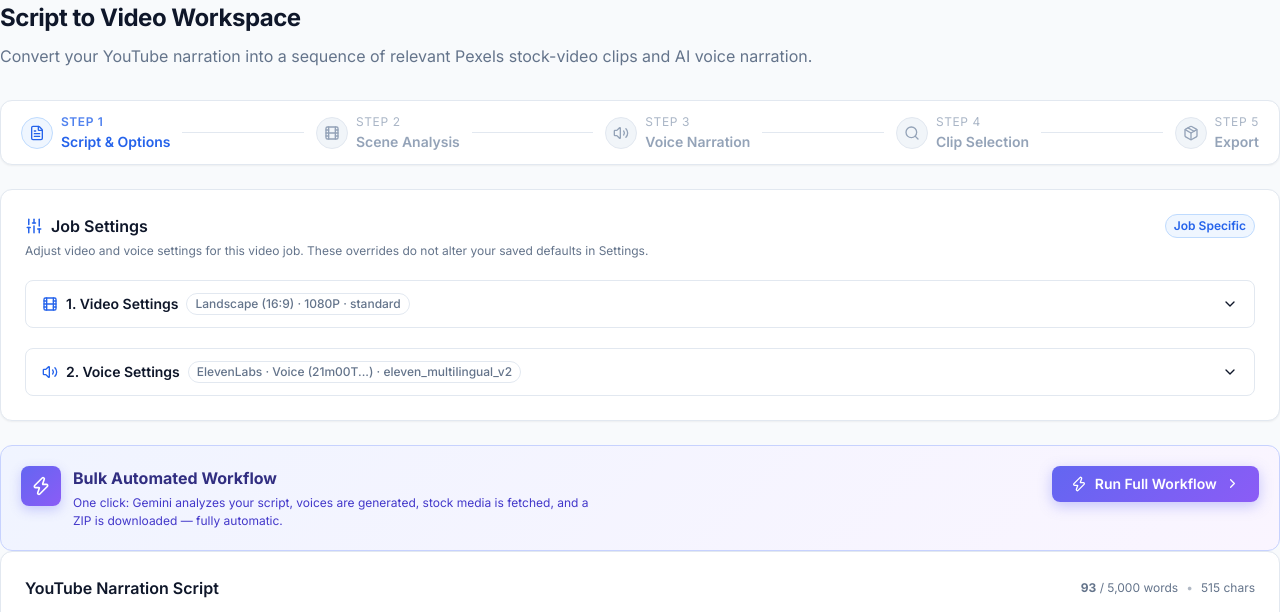
Scenario: WorkspacePage › renders step 1 with prefilled defaults from settings and sample script
Expected: the heading "Script to Video Workspace" is shown, [0,3,301,32]
Expected: the text "YouTube Narration Script" is shown, [25,576,219,600]
// Open Video Settings
Click the button "1. Video Settings Landscape (16:9) · 1080P · standard" at (122,304), box [26,281,1254,327]
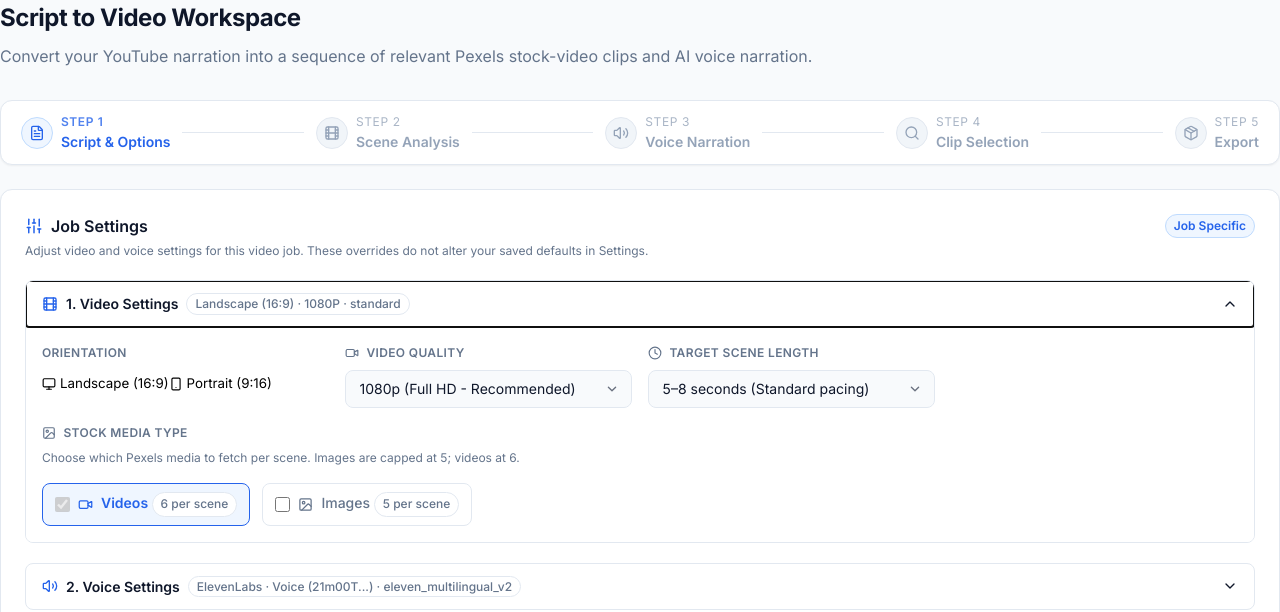
Now the button "1. Video Settings Landscape (16:9) · 1080P · standard" is expanded, box [26,281,1254,327]
